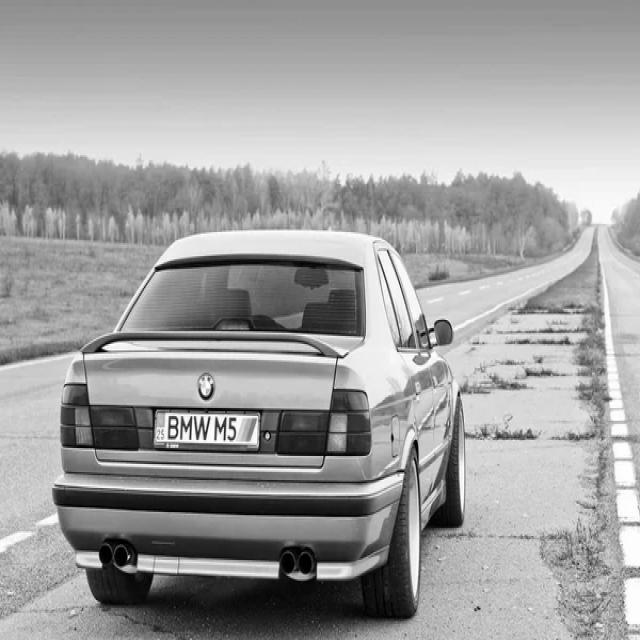Car: (52, 232, 466, 618)
